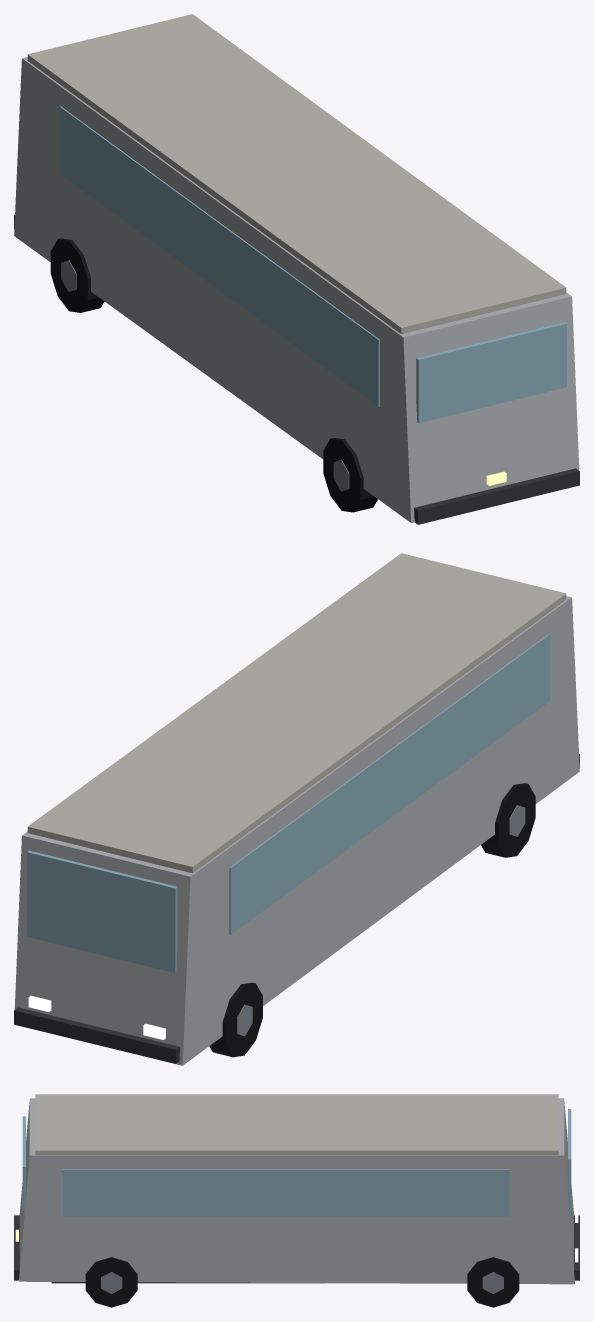
The model's file is veh_bus.glb.
3 renders of one model, top to bottom at view 1: azimuth 30°, elevation 25°; view 2: azimuth 150°, elevation 25°; view 3: azimuth 270°, elevation 25°, orthographic. The views are drawn at different scales.
Visible parts, largest first — view 1: veh_bus_body, wheel_rl_mesh, wheel_fl_mesh; view 2: veh_bus_body, wheel_rl_mesh, wheel_fl_mesh; view 3: veh_bus_body, wheel_rr_mesh, wheel_fr_mesh.
Part boxes in pixels (<box>): veh_bus_body: <box>14,14,579,524</box>; wheel_rl_mesh: <box>323,438,377,512</box>; wheel_fl_mesh: <box>50,238,104,312</box>; veh_bus_body: <box>14,553,579,1065</box>; wheel_rl_mesh: <box>481,783,535,857</box>; wheel_fl_mesh: <box>209,982,262,1057</box>; veh_bus_body: <box>14,1094,579,1284</box>; wheel_rr_mesh: <box>85,1257,137,1307</box>; wheel_fr_mesh: <box>467,1257,519,1307</box>.
Bounding box in the file's own units: 2.61 × 3.14 × 10.38.
